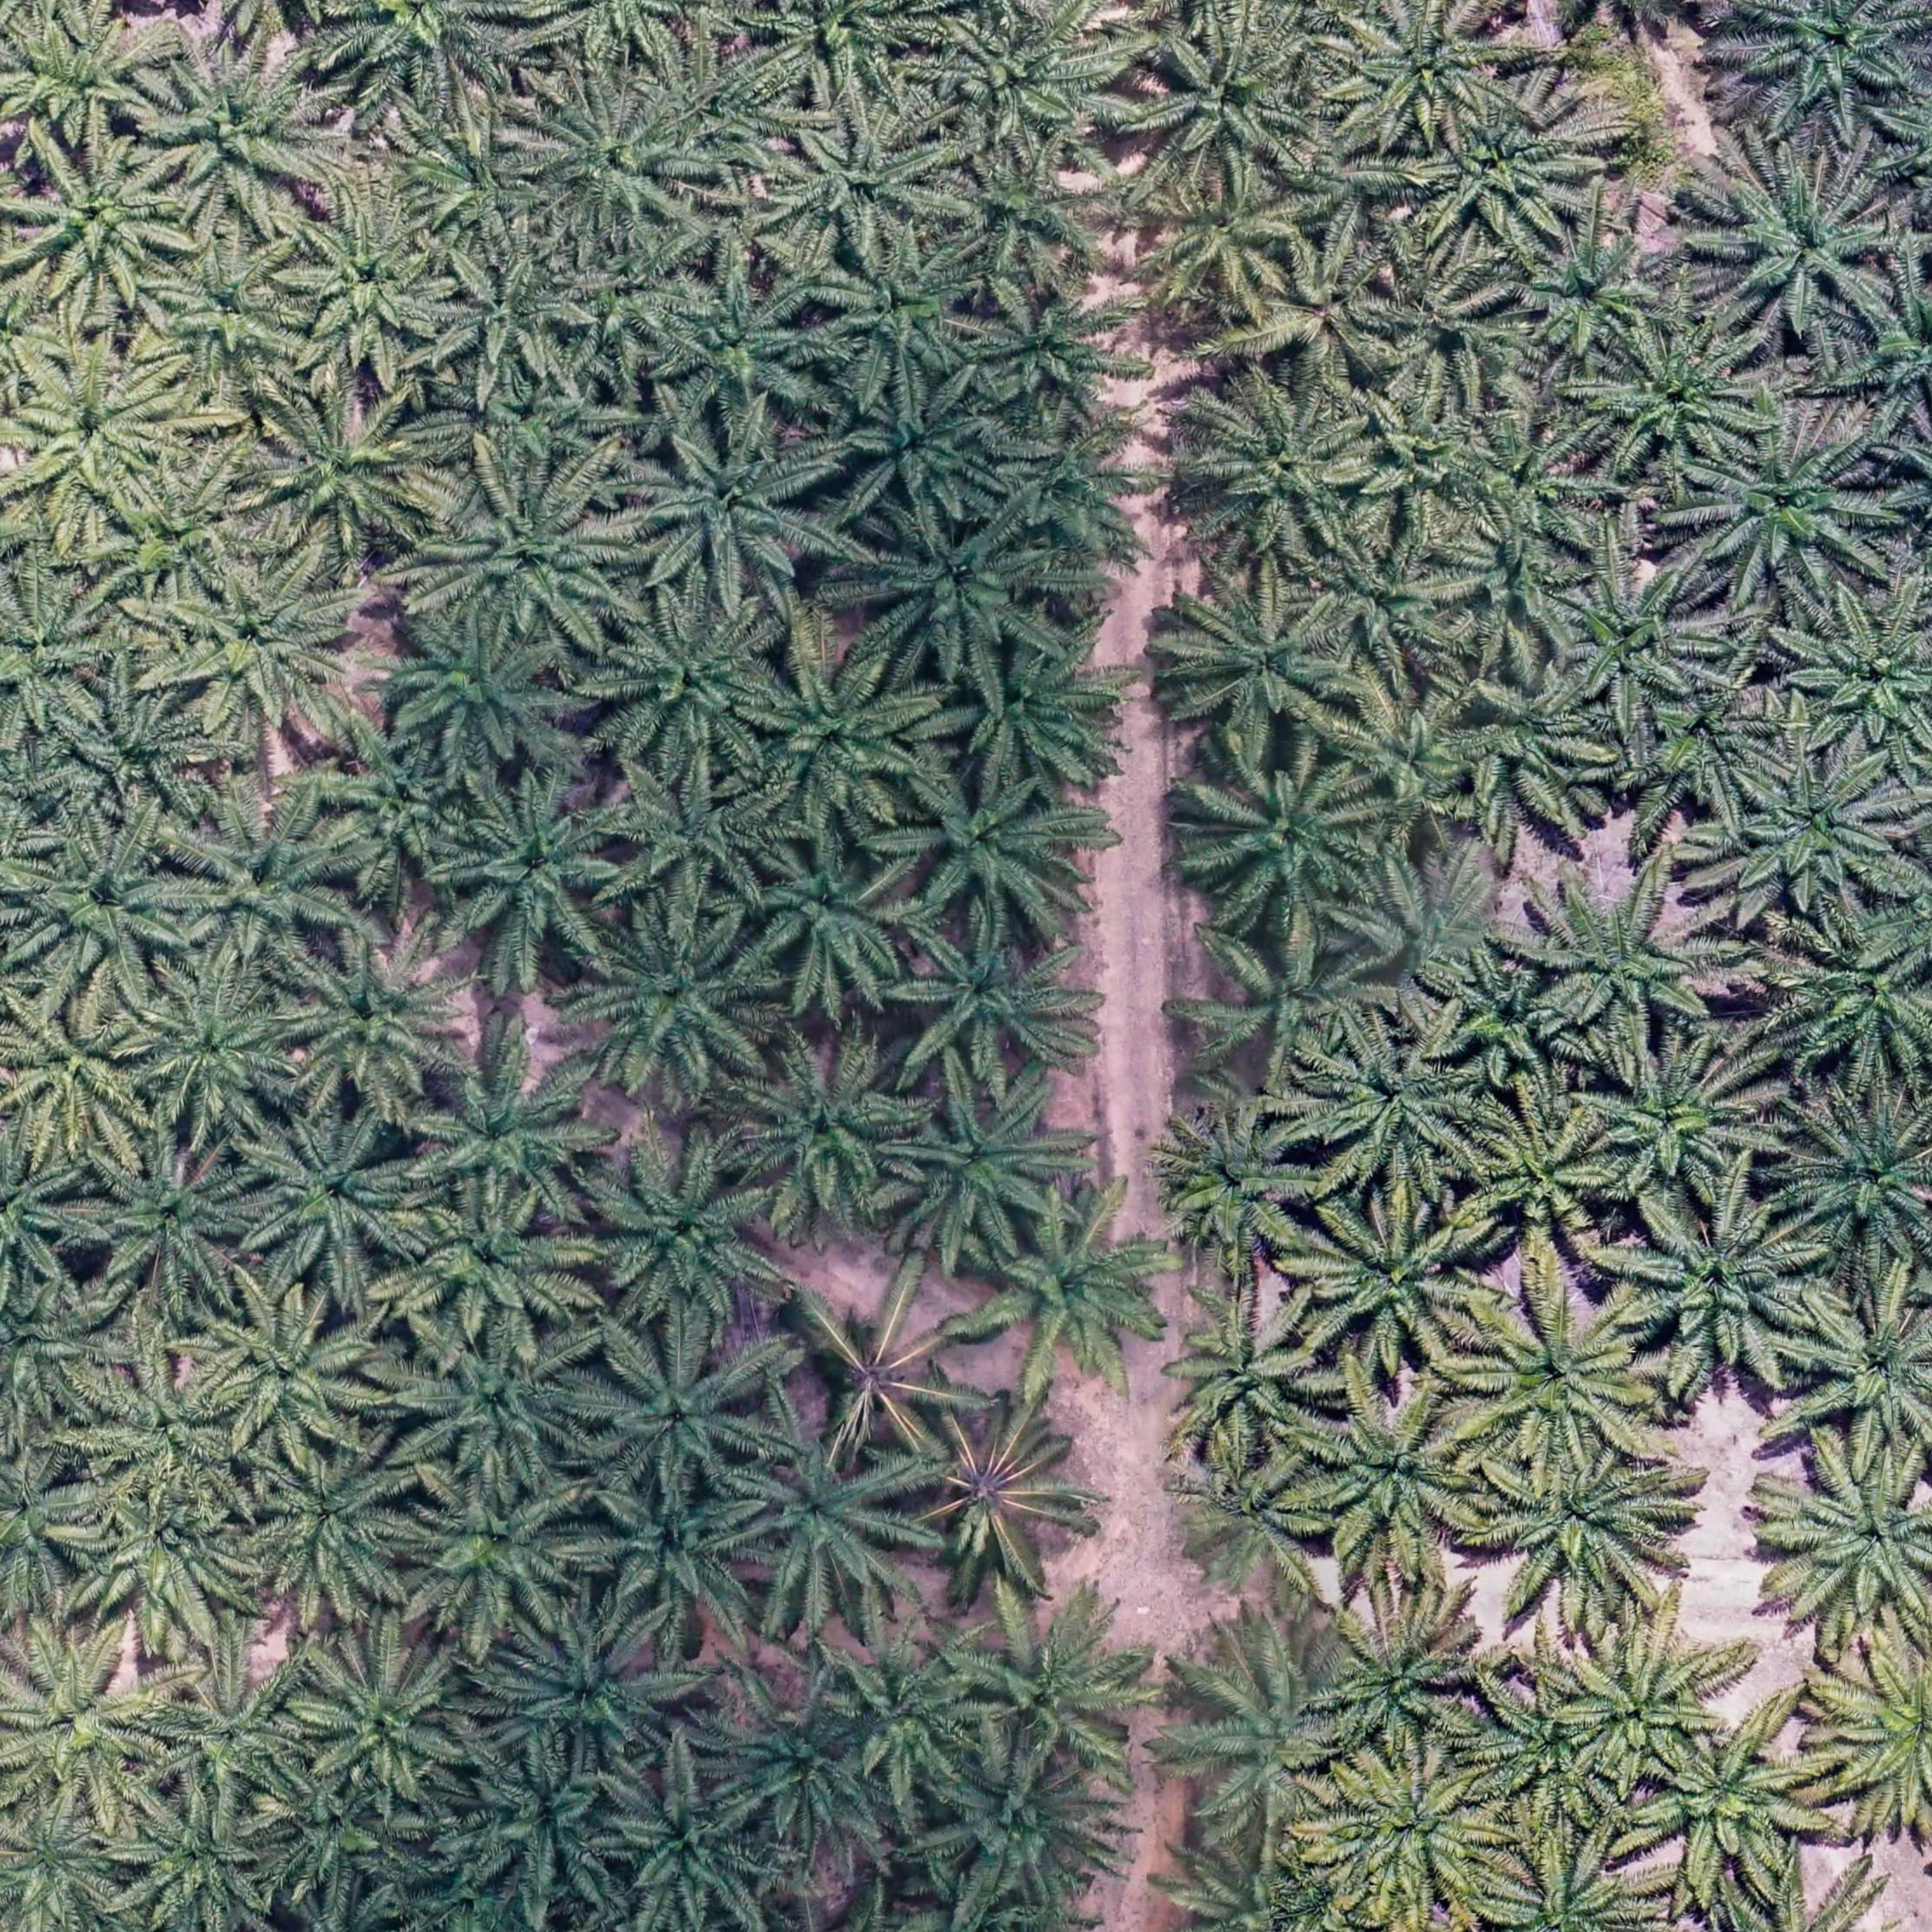palmtree: (958, 1194, 1177, 1395), (626, 417, 847, 611), (579, 1137, 787, 1344), (955, 1586, 1167, 1786), (425, 460, 636, 658), (734, 1420, 938, 1623), (159, 550, 366, 748), (433, 773, 635, 975), (571, 904, 779, 1099), (1298, 1379, 1500, 1577), (1462, 1282, 1666, 1477), (1471, 1442, 1686, 1627), (1687, 415, 1897, 603), (1618, 1190, 1822, 1382), (1171, 1629, 1360, 1836), (1524, 863, 1729, 1053), (1703, 150, 1902, 342), (142, 42, 343, 231), (477, 1599, 688, 1780), (1296, 1186, 1494, 1377), (399, 1319, 613, 1496), (167, 783, 361, 978), (237, 1102, 437, 1290), (888, 914, 1096, 1095), (886, 760, 1091, 941), (887, 1078, 1083, 1268), (412, 1039, 611, 1226), (735, 1035, 930, 1225), (854, 496, 1055, 679), (62, 1479, 266, 1658), (1188, 378, 1381, 567), (77, 1132, 274, 1318), (575, 1468, 775, 1648), (1191, 753, 1384, 939), (928, 1734, 1130, 1911), (275, 931, 467, 1117), (404, 1467, 600, 1648), (1398, 87, 1599, 264), (592, 593, 787, 775), (242, 1434, 433, 1618), (786, 1275, 973, 1461), (1633, 1718, 1827, 1897), (2, 1627, 182, 1819), (298, 1628, 491, 1808), (901, 1403, 1089, 1587), (1171, 575, 1360, 758), (750, 644, 934, 831), (204, 1283, 396, 1461), (1137, 15, 1330, 192), (248, 380, 443, 557), (1766, 1446, 1932, 1652), (10, 346, 195, 531), (583, 1325, 774, 1501), (525, 75, 715, 250), (279, 196, 458, 381), (14, 820, 201, 996), (937, 5, 1138, 169), (1158, 1281, 1341, 1461), (1303, 1021, 1494, 1193), (717, 1680, 897, 1862), (385, 609, 577, 778), (1315, 1749, 1507, 1918), (1728, 748, 1912, 922), (1157, 1098, 1337, 1276), (1588, 1032, 1776, 1203), (401, 1186, 597, 1349), (128, 965, 308, 1141), (814, 1619, 991, 1799), (448, 1748, 637, 1915), (748, 828, 927, 1001), (937, 643, 1132, 801), (597, 1759, 778, 1928), (657, 263, 836, 431), (1199, 926, 1389, 1082), (16, 141, 190, 310), (1172, 1441, 1342, 1613), (770, 110, 955, 267), (321, 715, 483, 894), (1317, 1591, 1489, 1759), (1554, 1623, 1731, 1786), (1774, 909, 1932, 1089), (1728, 0, 1929, 141), (1453, 657, 1615, 831), (1329, 0, 1515, 148), (829, 372, 1011, 524), (984, 420, 1162, 575), (1342, 855, 1520, 1009), (1511, 217, 1685, 374), (1592, 326, 1770, 479), (1302, 523, 1478, 677), (1554, 558, 1721, 720), (608, 764, 790, 912), (816, 235, 987, 392), (151, 1654, 322, 1811), (1467, 1102, 1632, 1264), (1788, 1279, 1932, 1465), (1131, 169, 1308, 320), (1783, 1091, 1932, 1269), (148, 237, 311, 394), (1330, 688, 1491, 847), (976, 274, 1145, 423), (4, 992, 161, 1152), (92, 1352, 254, 1507), (6, 10, 177, 156), (103, 463, 271, 611), (1363, 251, 1523, 406), (1813, 1632, 1932, 1840), (947, 148, 1118, 293), (436, 240, 596, 389), (122, 1787, 289, 1929), (51, 682, 214, 827), (1347, 386, 1500, 540), (1790, 596, 1932, 759), (322, 0, 529, 111), (1441, 509, 1598, 655), (1452, 411, 1607, 552), (562, 234, 710, 380), (406, 112, 551, 259), (259, 1764, 409, 1904), (1478, 1684, 1625, 1825), (453, 349, 604, 484), (1639, 676, 1784, 815), (1166, 1833, 1368, 1932), (1274, 124, 1418, 262), (751, 0, 939, 106), (0, 1276, 121, 1439), (0, 578, 119, 742), (1440, 960, 1585, 1093), (0, 1439, 105, 1614), (0, 1123, 102, 1294), (0, 1804, 131, 1932)
